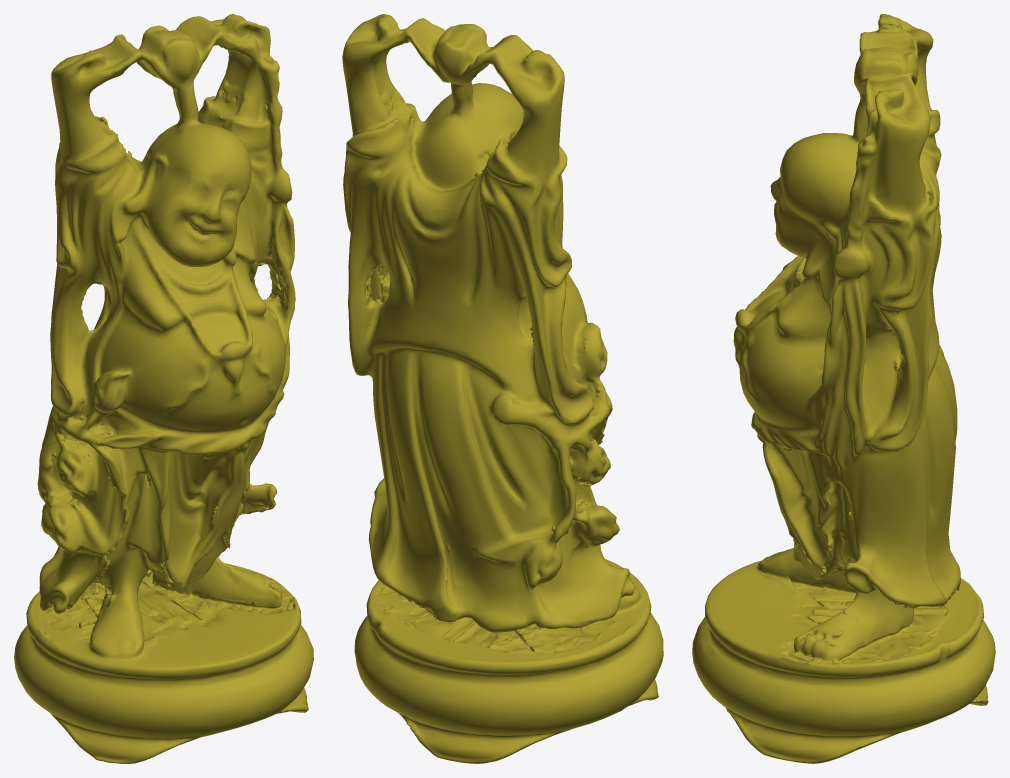
The model's file is Buddha.fbx.
3 views of the same model, side by side, from view 1: azimuth 30°, elevation 25°; view 2: azimuth 150°, elevation 25°; view 3: azimuth 270°, elevation 25° (orthographic). The views are drawn at different scales.
Parts seen in each view (by area): view 1: buddha; view 2: buddha; view 3: buddha.
Boxes of the visible parts, x1,y1,x2,y2 form: buddha: (14, 14, 313, 763); buddha: (342, 14, 663, 763); buddha: (692, 14, 995, 763).
Size of the model in its own units: 4.08 by 9.93 by 4.09.
